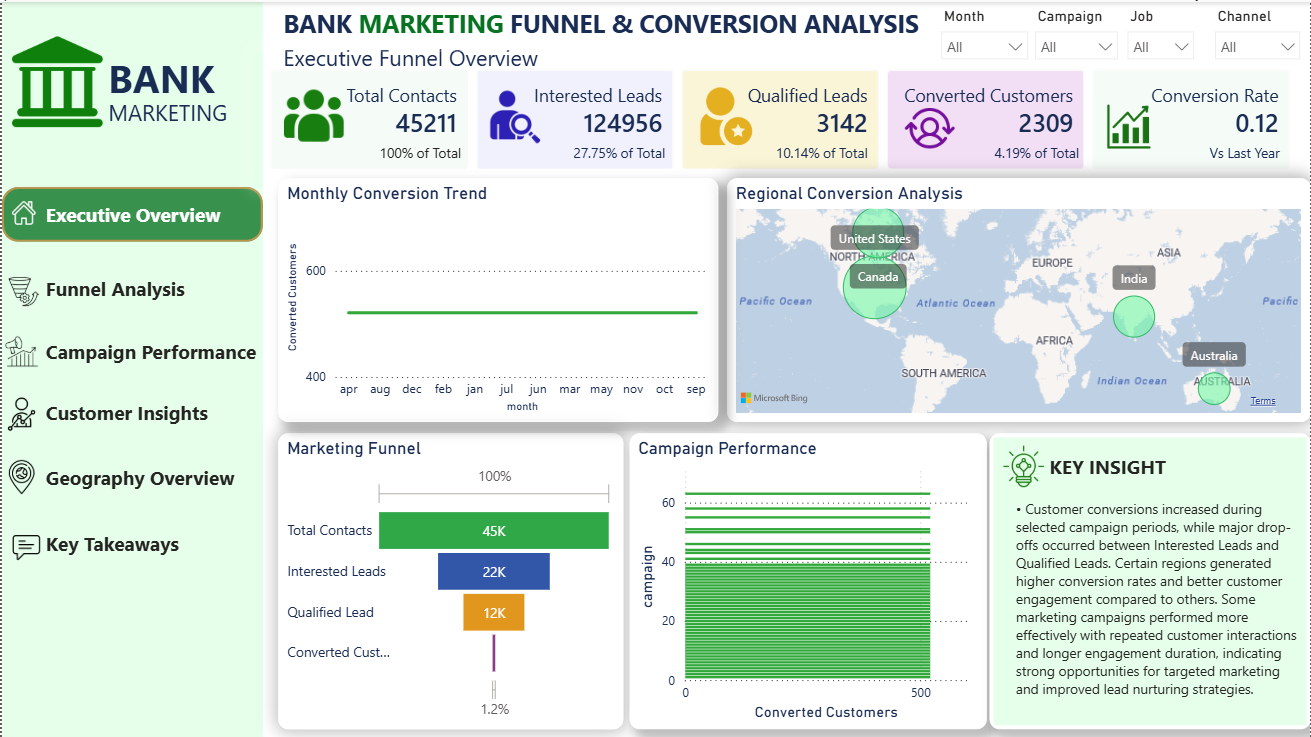

This screenshot's page, from the dashboard's own definition file:
{"tool":"powerbi","page":{"name":"Page 1","canvas":[1280,720],"ordinal":0},"visuals":[{"type":"shape","box":[0,0,255.2,720.4],"z":0},{"type":"shape","box":[0,181.1,255.2,53.5],"z":1000},{"type":"textbox","box":[38.4,190.7,197.6,43.9],"z":2000},{"type":"image","box":[9.6,190.7,23.3,31.6],"z":3000},{"type":"textbox","box":[38.4,263.5,178.4,41.2],"z":4000},{"type":"textbox","box":[37.9,324.1,234.8,48.9],"z":5000},{"type":"textbox","box":[38.4,384.2,197.6,52.1],"z":6000},{"type":"textbox","box":[38.4,447.3,216.8,53.5],"z":7000},{"type":"textbox","box":[38.4,511.8,216.8,60.4],"z":8000},{"type":"image","box":[5.5,263.5,32.9,41.2],"z":9000},{"type":"image","box":[0,310.1,38.4,63.1],"z":10000},{"type":"image","box":[0,384.2,38.4,38.4],"z":11000},{"type":"image","box":[0,447.3,38.4,34.3],"z":12000},{"type":"image","box":[9.8,501.4,28.1,64.8],"z":13000},{"type":"image","box":[9.6,23.3,89.2,109.8],"z":14000},{"type":"textbox","box":[99,44,156.5,69.7],"z":15000},{"type":"textbox","box":[98.8,87.8,171.5,60.4],"z":16000},{"type":"textbox","box":[270.2,0,653,44],"z":17000},{"type":"textbox","box":[270.2,34.2,518.5,44],"z":18000},{"type":"cardVisual","fields":{"Data":["CountNonNull(bank-full.age)","Sum(bank-full.campaign)","bank-full.Potential Customers","bank-full.Qualified Leads","bank-full.Conversion Rate"]},"box":[245.8,48.9,1034.5,132.1],"z":19000},{"type":"image","box":[879.2,99,57.5,48.9],"z":20000},{"type":"image","box":[270.2,81.9,69.7,58.7],"z":21000},{"type":"image","box":[474.5,67.3,55,90.5],"z":22000},{"type":"image","box":[1073.6,99,57.5,45.2],"z":23000},{"type":"image","box":[562.5,77,292.3,69.7],"z":24000},{"type":"textbox","box":[364.4,133.3,97.8,47.7],"z":25000},{"type":"textbox","box":[553.9,133.3,107.6,47.7],"z":26000},{"type":"textbox","box":[752,133.3,113.7,39.1],"z":27000},{"type":"textbox","box":[966,133.3,94.2,47.7],"z":28000},{"type":"textbox","box":[1176.4,133.3,86.8,39.1],"z":29000},{"type":"slicer","title":"Date Range","fields":{"Values":["bank-full.month"]},"box":[908.6,0,105.2,64.8],"z":30000},{"type":"slicer","fields":{"Values":["bank.campaign"]},"box":[1000.3,0,101.5,77],"z":31000},{"type":"slicer","fields":{"Values":["bank-full.job"]},"box":[1090.8,0,85.6,64.8],"z":32000},{"type":"slicer","fields":{"Values":["bank-full.contact"]},"box":[1176.4,0,103.9,64.8],"z":33000},{"type":"map","title":"Regional Conversion Analysis","fields":{"Category":["bank.Country"],"Size":["bank-full.Converted Customers"]},"box":[709.2,172.4,571.1,238.5],"z":34000},{"type":"funnel","title":"Marketing Funnel","fields":{"Category":["Funnel Data.Stage"],"Y":["Sum(Funnel Data.Count)"]},"box":[270.2,421.9,337.5,289.8],"z":35000},{"type":"lineChart","title":"Monthly Conversion Trend","fields":{"Category":["bank-full.month"],"Y":["bank-full.Converted Customers"]},"box":[270.2,172.4,430.4,238.5],"z":36000},{"type":"barChart","title":"Campaign Performance","fields":{"Category":["bank-full.campaign"],"Y":["bank-full.Converted Customers"]},"box":[613.9,421.9,349.7,289.8],"z":37000},{"type":"shape","box":[966,421.9,314.3,289.8],"z":38000},{"type":"image","box":[979.5,421.9,40.4,64.8],"z":39000},{"type":"textbox","box":[1019.8,436.6,251.9,61.1],"z":40000},{"type":"textbox","box":[986.8,481.8,284.9,238.5],"z":41000}]}

Visuals, with their boxes in screenshot pixels (x1, y1, x2, y2), scaled from the page's 1280x720 canvas onto the 1311x737 screenshot:
shape: [0, 0, 261, 736]
shape: [0, 185, 261, 240]
textbox: [39, 195, 242, 240]
image: [10, 195, 34, 228]
textbox: [39, 270, 222, 312]
textbox: [39, 332, 279, 382]
textbox: [39, 393, 242, 447]
textbox: [39, 458, 261, 513]
textbox: [39, 524, 261, 586]
image: [6, 270, 39, 312]
image: [0, 317, 39, 382]
image: [0, 393, 39, 433]
image: [0, 458, 39, 493]
image: [10, 513, 39, 580]
image: [10, 24, 101, 136]
textbox: [101, 45, 262, 116]
textbox: [101, 90, 277, 152]
textbox: [277, 0, 946, 45]
textbox: [277, 35, 808, 80]
cardVisual - CountNonNull(bank-full.age) x Sum(bank-full.campaign): [252, 50, 1310, 185]
image: [900, 101, 959, 151]
image: [277, 84, 348, 144]
image: [486, 69, 542, 162]
image: [1100, 101, 1158, 148]
image: [576, 79, 876, 150]
textbox: [373, 136, 473, 185]
textbox: [567, 136, 678, 185]
textbox: [770, 136, 887, 176]
textbox: [989, 136, 1086, 185]
textbox: [1205, 136, 1294, 176]
"Date Range" slicer: [931, 0, 1038, 66]
slicer - bank.campaign: [1025, 0, 1128, 79]
slicer - bank-full.job: [1117, 0, 1205, 66]
slicer - bank-full.contact: [1205, 0, 1310, 66]
"Regional Conversion Analysis" map: [726, 176, 1310, 421]
"Marketing Funnel" funnel: [277, 432, 622, 729]
"Monthly Conversion Trend" lineChart: [277, 176, 718, 421]
"Campaign Performance" barChart: [629, 432, 987, 729]
shape: [989, 432, 1310, 729]
image: [1003, 432, 1045, 498]
textbox: [1044, 447, 1302, 509]
textbox: [1011, 493, 1302, 736]
